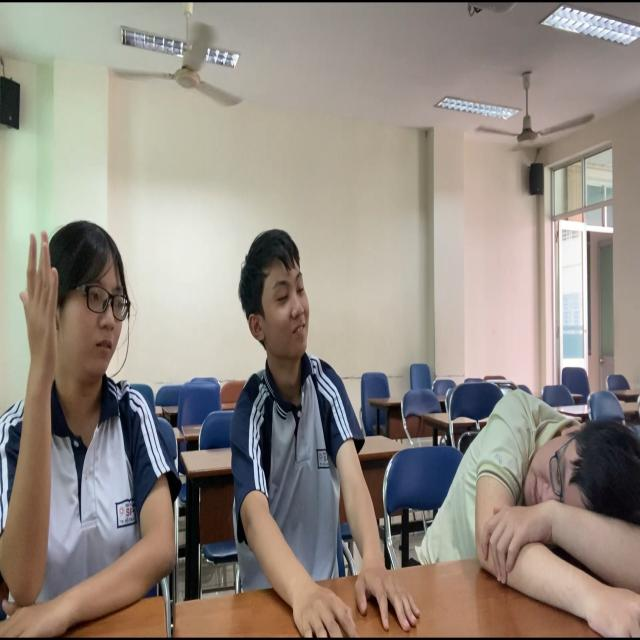raise_hand: (1, 191, 163, 640)
sleep: (423, 369, 640, 605)
